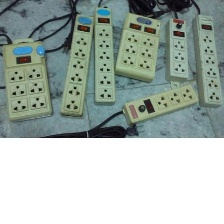three_eye_plug: (0, 36, 58, 124), (57, 11, 98, 119), (111, 9, 164, 84), (119, 81, 201, 129), (190, 9, 223, 109), (90, 4, 119, 106), (162, 16, 191, 83)
